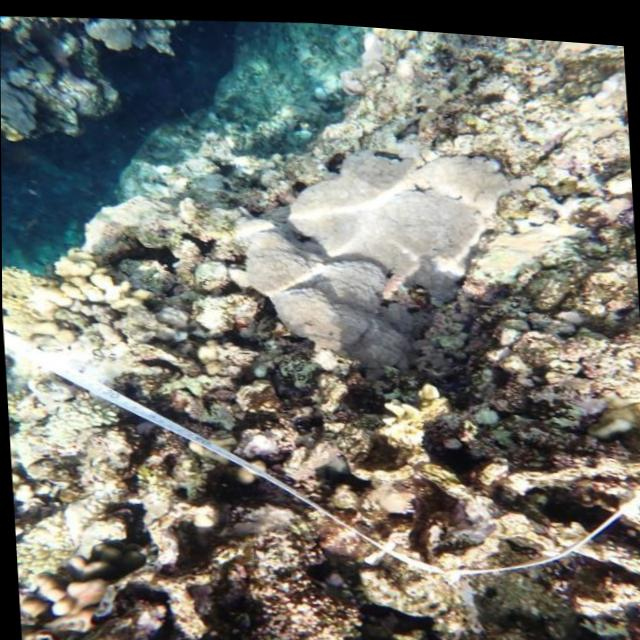Bleached Coral: (236, 77, 512, 377)
